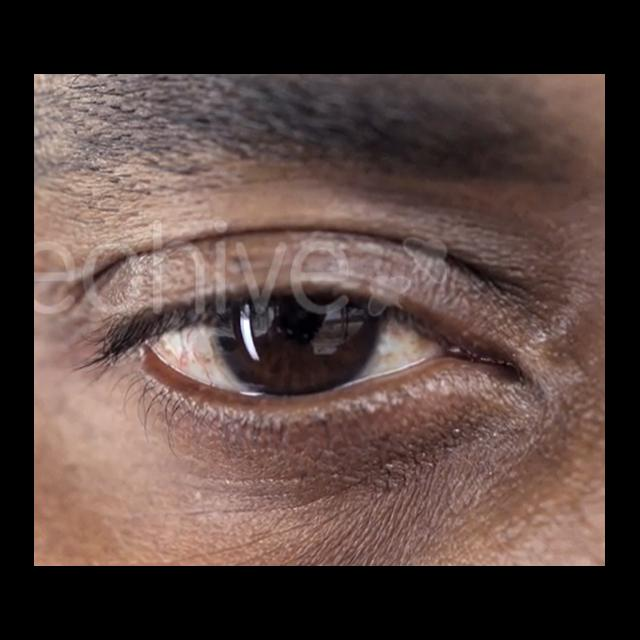eye: (146, 294, 445, 403)
iris: (218, 298, 387, 394)
